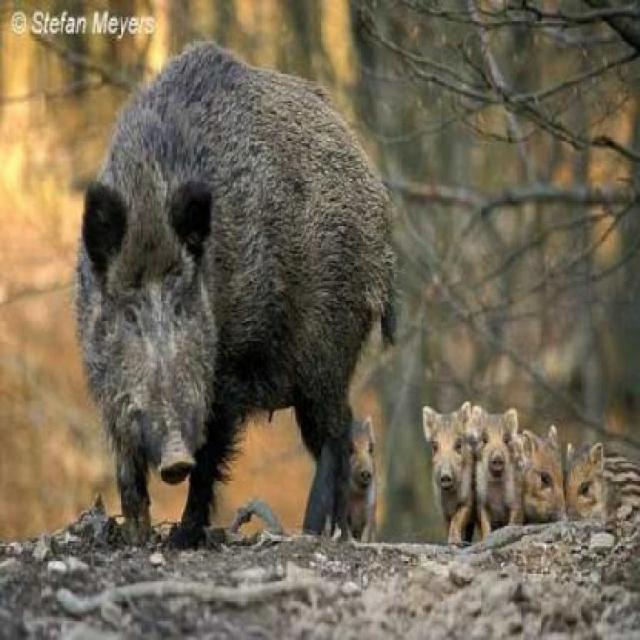pig: (60, 4, 398, 552), (331, 398, 404, 548), (566, 418, 639, 551), (422, 395, 473, 544), (472, 398, 522, 537), (524, 422, 566, 552)
